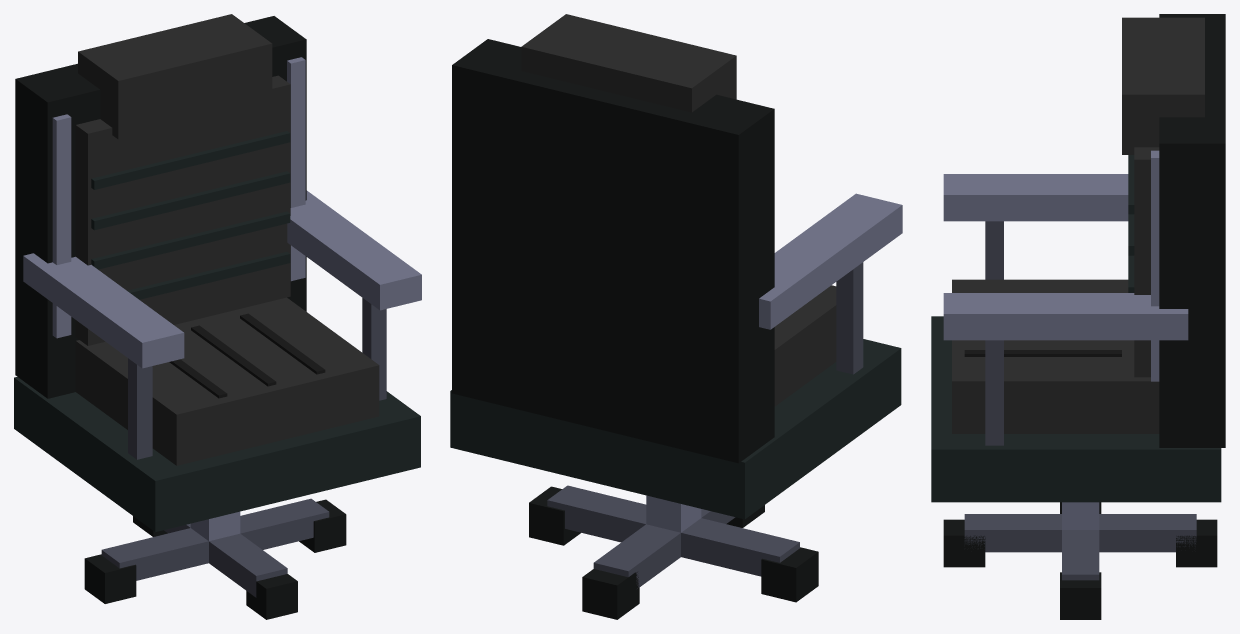
The model's file is CMU3DComfyChairBlack.glb.
3 renders of one model, left to right at view 1: azimuth 30°, elevation 25°; view 2: azimuth 150°, elevation 25°; view 3: azimuth 270°, elevation 25°, orthographic. The views are drawn at different scales.
Parts seen in each view (by area): view 1: back cushion, seat cushion, seat base, back shell, headrest, upholstery rib (×4), left arm pad, right arm pad, back edge piping (×2), caster cross X, caster wheel (×3), arm front stanchion (×2) (+3 smaller); view 2: back shell, seat base, headrest, left arm pad, caster cross X, caster wheel (×3), seat cushion, caster cross Y, arm front stanchion, chrome swivel stem; view 3: back shell, seat base, seat cushion, right arm pad, headrest, left arm pad, caster cross Y, caster wheel (×3), back cushion, arm front stanchion (×2), caster cross X, back edge piping (+3 smaller).
Boxes of the visible parts, <box> form: back cushion: <box>75,75,290,345</box>; seat cushion: <box>75,297,379,465</box>; seat base: <box>14,377,420,531</box>; back shell: <box>15,16,306,398</box>; headrest: <box>78,14,272,139</box>; upholstery rib (×4): <box>91,131,290,299</box>; left arm pad: <box>23,253,184,368</box>; right arm pad: <box>287,190,421,310</box>; back edge piping (×2): <box>52,57,305,338</box>; caster cross X: <box>101,498,329,580</box>; caster wheel (×3): <box>84,499,346,619</box>; arm front stanchion (×2): <box>128,298,386,459</box>; back shell: <box>452,39,774,463</box>; seat base: <box>450,339,901,519</box>; headrest: <box>521,14,736,112</box>; left arm pad: <box>759,193,902,329</box>; caster cross X: <box>547,485,799,576</box>; caster wheel (×3): <box>529,486,818,619</box>; seat cushion: <box>774,285,836,406</box>; caster cross Y: <box>593,509,735,588</box>; arm front stanchion: <box>836,262,863,374</box>; chrome swivel stem: <box>646,495,701,532</box>; back shell: <box>1159,14,1225,447</box>; seat base: <box>931,316,1221,502</box>; seat cushion: <box>952,279,1159,433</box>; right arm pad: <box>943,293,1188,340</box>; headrest: <box>1122,17,1204,154</box>; left arm pad: <box>943,174,1128,221</box>; caster cross Y: <box>964,514,1196,552</box>; caster wheel (×3): <box>943,519,1217,619</box>; back cushion: <box>1134,147,1159,377</box>; arm front stanchion (×2): <box>985,221,1003,445</box>; caster cross X: <box>1062,530,1099,580</box>; back edge piping: <box>1151,150,1159,381</box>.
Size of the model in its own units: 0.8 by 1.34 by 0.71.
